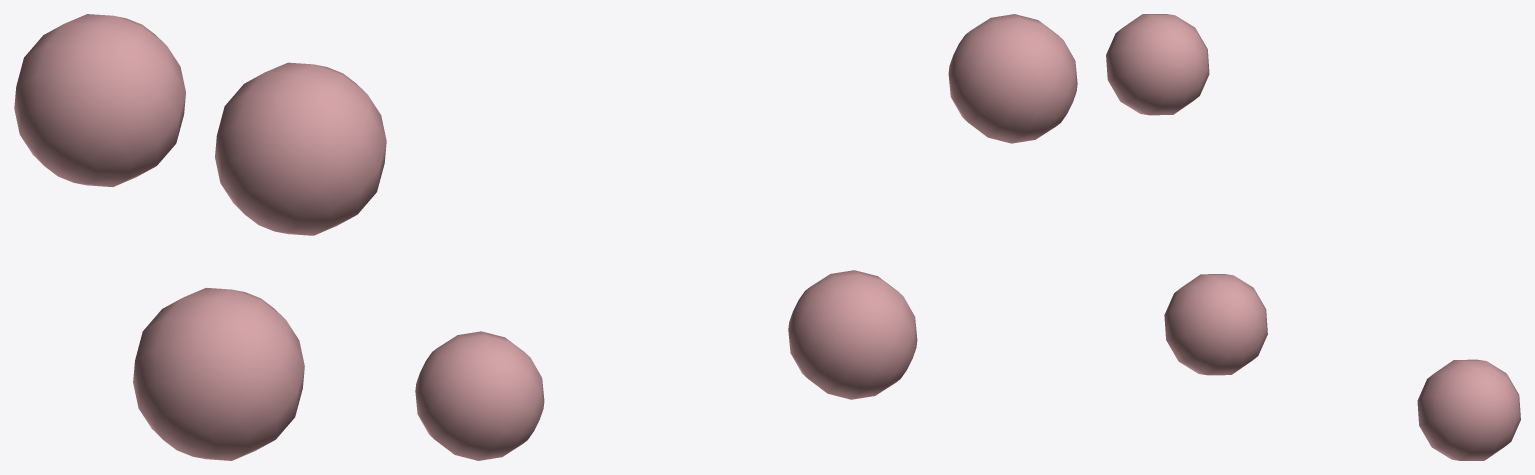
The picture shows the model from 3 angles, left to right: view 1: azimuth 30°, elevation 25°; view 2: azimuth 150°, elevation 25°; view 3: azimuth 270°, elevation 25°; orthographic projection. The views are drawn at different scales.
Parts seen in each view (by area): view 1: ZA_f2f420cd7d00849b; view 2: ZA_f2f420cd7d00849b; view 3: ZA_f2f420cd7d00849b.
Boxes of the visible parts, x1,y1,x2,y2 form: ZA_f2f420cd7d00849b: (14,14,386,460); ZA_f2f420cd7d00849b: (415,14,1077,460); ZA_f2f420cd7d00849b: (1106,14,1520,460).
Size of the model in its own units: 0.0105 by 0.00832 by 0.0102.
